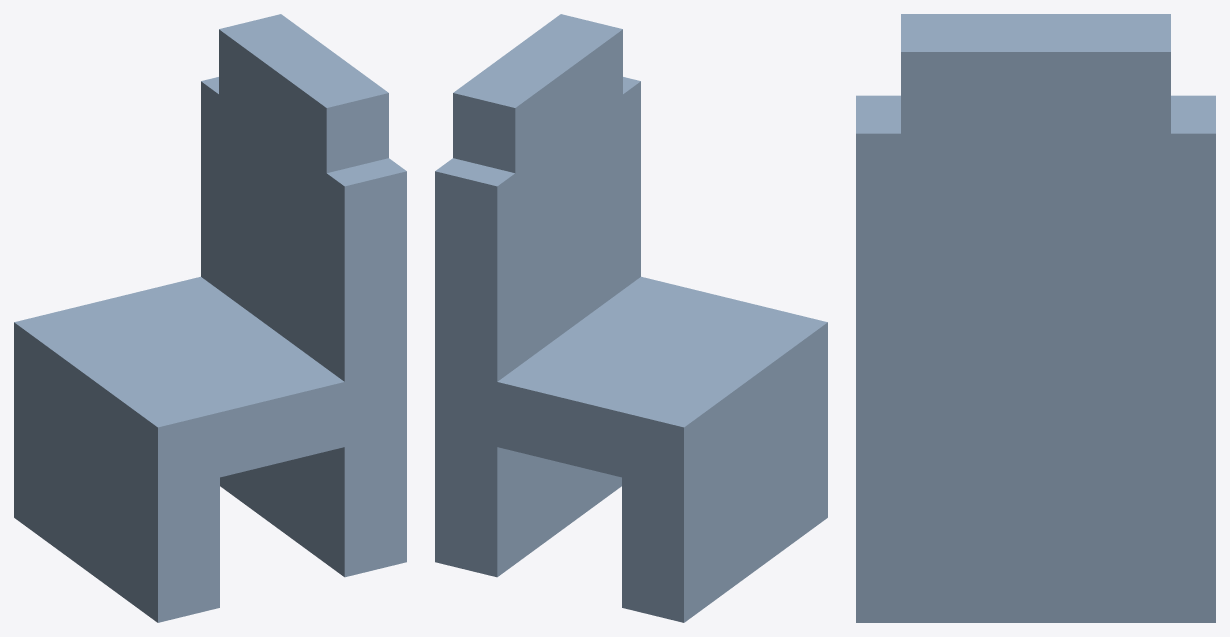
File: stone-chair.glb
The picture shows the model from 3 angles, left to right: view 1: azimuth 30°, elevation 25°; view 2: azimuth 150°, elevation 25°; view 3: azimuth 270°, elevation 25°; orthographic projection. The views are drawn at different scales.
Visible parts, largest first — view 1: generated(Clone); view 2: generated(Clone); view 3: generated(Clone).
Part boxes in pixels (x1,y1,x2,y2): generated(Clone): (14, 14, 406, 622); generated(Clone): (435, 14, 827, 622); generated(Clone): (856, 14, 1215, 622).
Size of the model in its own units: 4 by 7 by 4.
1 material, 1 textured.
